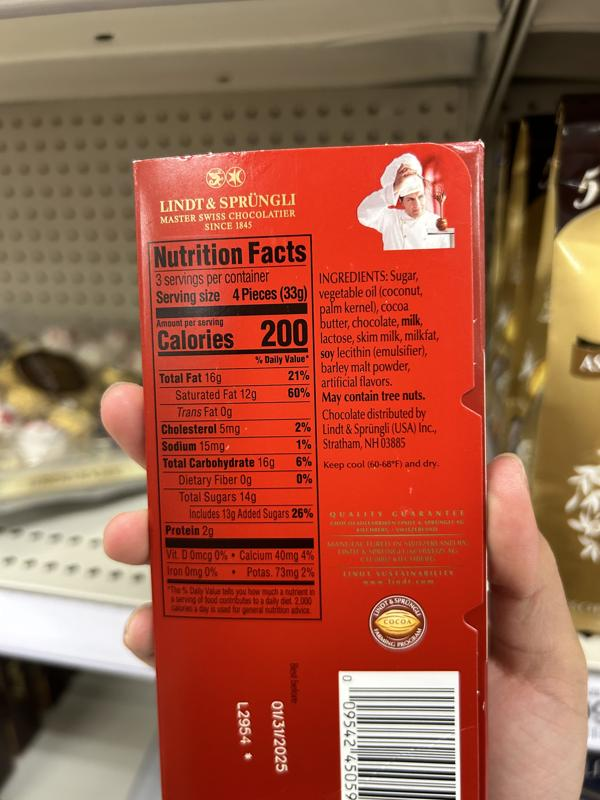ingredients: (317, 268, 439, 389)
